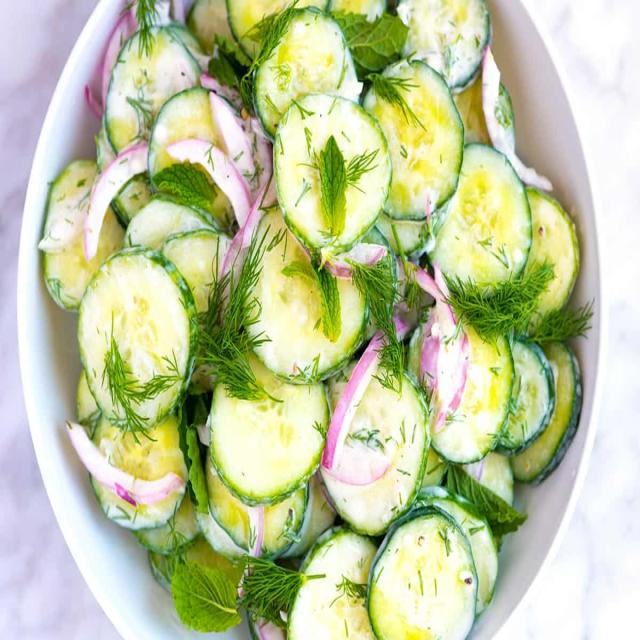Pickle: (320, 332, 430, 535), (78, 248, 198, 432), (250, 208, 369, 384), (274, 94, 391, 256), (210, 352, 330, 506), (362, 60, 464, 219), (368, 506, 478, 639), (430, 142, 532, 285), (254, 8, 361, 139), (68, 416, 188, 530), (104, 26, 201, 152), (431, 324, 514, 464), (205, 452, 308, 558), (510, 341, 582, 484), (417, 488, 498, 614), (149, 86, 255, 182), (288, 527, 376, 639), (398, 0, 490, 89), (44, 208, 124, 310), (525, 188, 580, 327), (498, 341, 555, 456), (124, 197, 216, 250), (227, 0, 294, 57), (296, 0, 329, 10)
